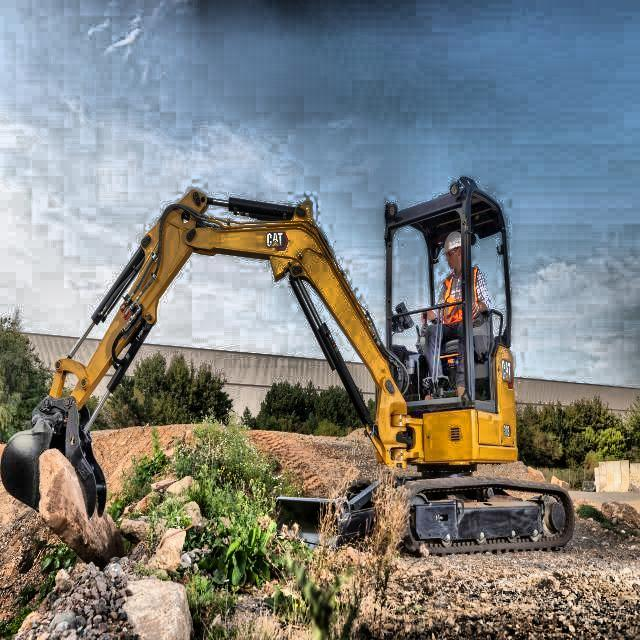excavator: (0, 175, 578, 562)
